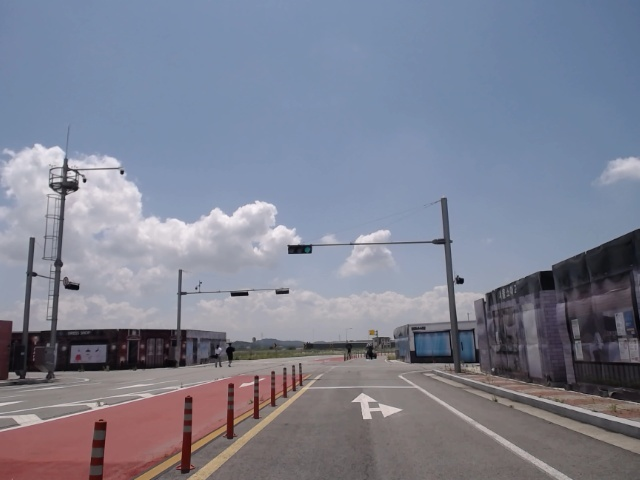green_3: (288, 245, 310, 255)
